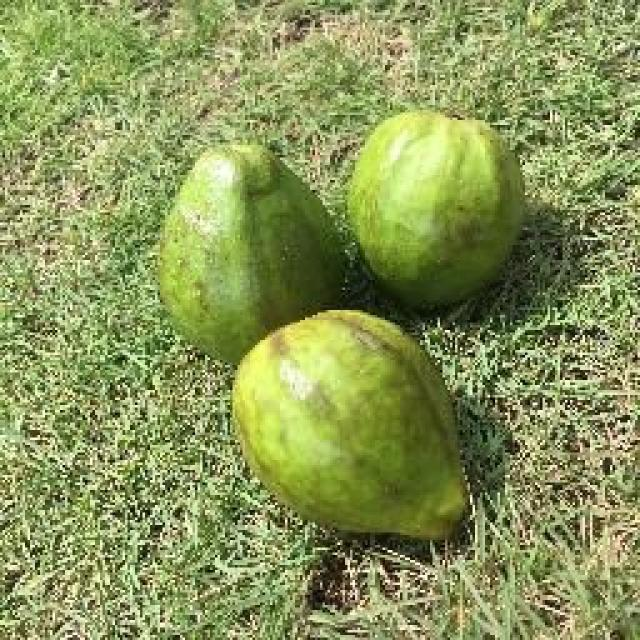Good_Guava: (155, 145, 345, 368), (345, 110, 528, 302)
